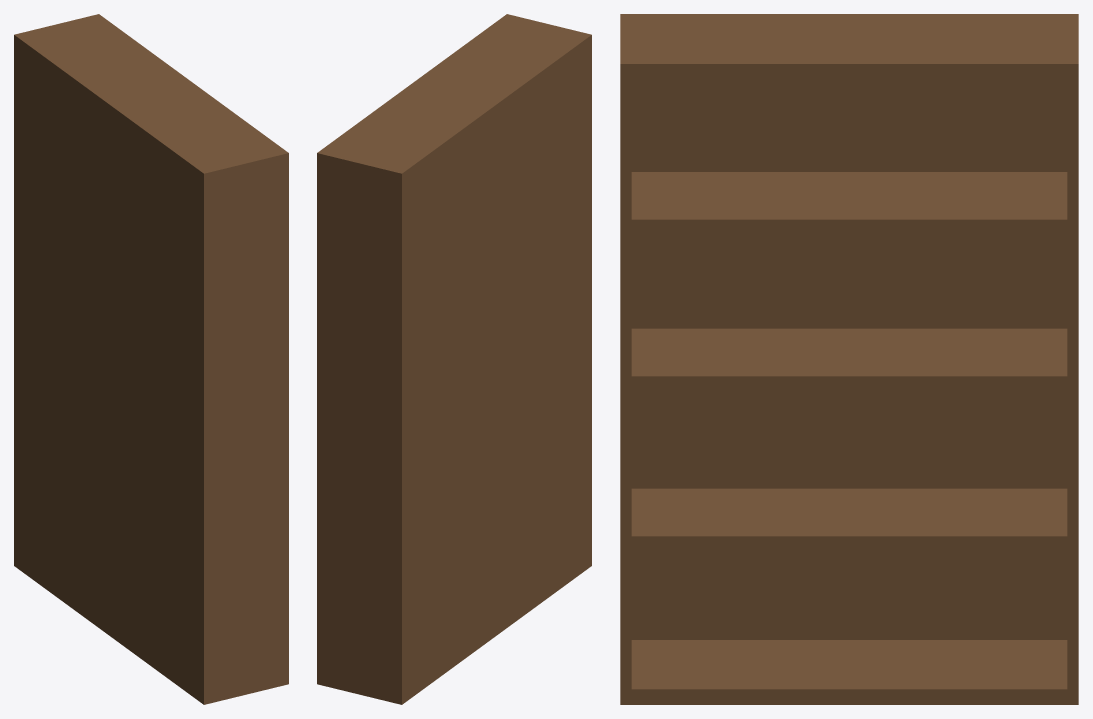
The model's file is Bookshelf.fbx.
3 views of the same model, side by side, from view 1: azimuth 30°, elevation 25°; view 2: azimuth 150°, elevation 25°; view 3: azimuth 270°, elevation 25° (orthographic). The views are drawn at different scales.
Parts seen in each view (by area): view 1: Main; view 2: Main; view 3: Main, Shelf1, Shelf2, Shelf3.
Boxes of the visible parts, box(x1,y1,x2,y2) form: Main: box(14, 14, 288, 704); Main: box(317, 14, 591, 704); Main: box(620, 14, 1078, 704); Shelf1: box(620, 488, 1078, 555); Shelf2: box(620, 328, 1078, 395); Shelf3: box(620, 172, 1078, 238).
Size of the model in its own units: 100 by 598 by 387.
